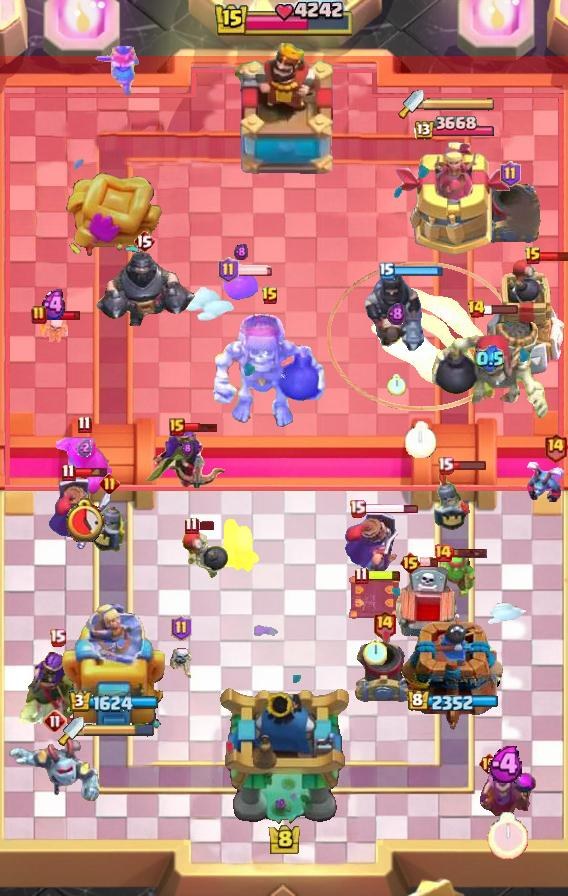bar: (59, 595, 169, 731), (395, 142, 514, 256)
barbarian-hut: (12, 650, 102, 724), (144, 425, 230, 501)
clock: (213, 0, 355, 40)
electro-giant: (429, 306, 551, 422), (211, 311, 329, 429)
electro-spirit: (488, 746, 527, 783), (38, 289, 69, 321), (476, 345, 504, 373), (386, 302, 406, 326), (76, 439, 91, 457), (234, 243, 248, 261), (181, 441, 193, 455)
elixir: (487, 812, 528, 860), (62, 497, 105, 542), (405, 421, 437, 458), (363, 639, 387, 666), (386, 374, 406, 396)
elixir-golem-big: (45, 476, 113, 554), (341, 510, 403, 584)
elixir-golem-mid: (393, 565, 463, 651)
elixir-golem-small: (7, 737, 103, 803)
emote: (365, 501, 420, 514), (392, 265, 444, 277), (366, 569, 402, 582), (236, 264, 274, 276), (452, 547, 489, 559), (483, 303, 519, 315), (75, 466, 110, 478), (45, 311, 83, 322), (183, 423, 219, 434), (451, 460, 487, 471), (540, 250, 568, 261), (196, 521, 216, 532), (420, 556, 439, 567)
giant-snowball: (439, 550, 477, 600)
heal-spirit: (167, 644, 195, 680), (40, 314, 68, 346)
hog-rider: (93, 44, 141, 98)
ice-golem: (181, 531, 229, 581)
ice-spirit-evolution-symbol: (348, 572, 402, 622)
ice-wizard: (328, 261, 517, 411)
inferno-dragon: (364, 270, 428, 353)
king-tower: (216, 684, 352, 826), (228, 41, 340, 181)
king-tower-bar: (424, 97, 496, 111), (84, 724, 154, 738)
miner: (223, 272, 259, 302)
musketeer: (479, 179, 541, 247), (353, 638, 415, 706)
princess: (433, 468, 477, 532), (87, 499, 131, 557)
queen-tower: (401, 613, 505, 731)
rascal-girl: (477, 764, 537, 820)
royal-delivery: (526, 462, 568, 502)
royal-guardian: (92, 244, 196, 326)
selected: (407, 690, 499, 714), (69, 690, 159, 714), (412, 116, 494, 142)
text: (371, 609, 396, 640), (544, 433, 568, 463), (398, 551, 422, 575), (43, 709, 67, 733), (478, 752, 501, 776), (499, 161, 520, 187), (217, 257, 238, 283), (172, 615, 193, 641), (133, 229, 155, 253), (99, 474, 121, 495), (433, 543, 453, 563), (466, 299, 485, 319), (524, 246, 542, 266), (261, 286, 279, 306), (437, 456, 454, 475), (350, 498, 367, 517), (50, 629, 67, 648), (31, 305, 47, 325), (379, 262, 395, 280), (169, 418, 185, 436), (76, 414, 91, 433), (60, 463, 75, 482), (185, 517, 199, 536), (355, 567, 369, 585)
tombstone: (220, 516, 262, 574)
tornado: (56, 437, 112, 495)
zappy: (482, 258, 568, 378)
